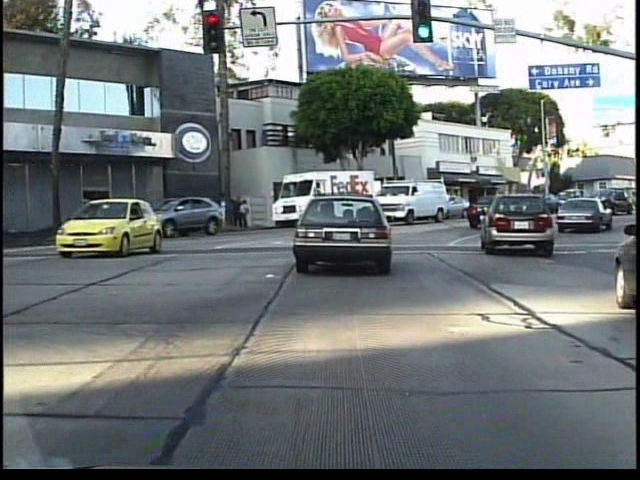person: (231, 194, 243, 232), (240, 200, 253, 232)
